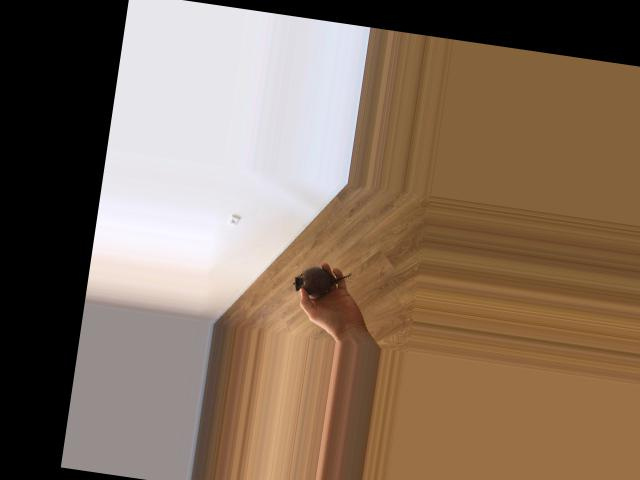beet: (292, 263, 351, 303)
